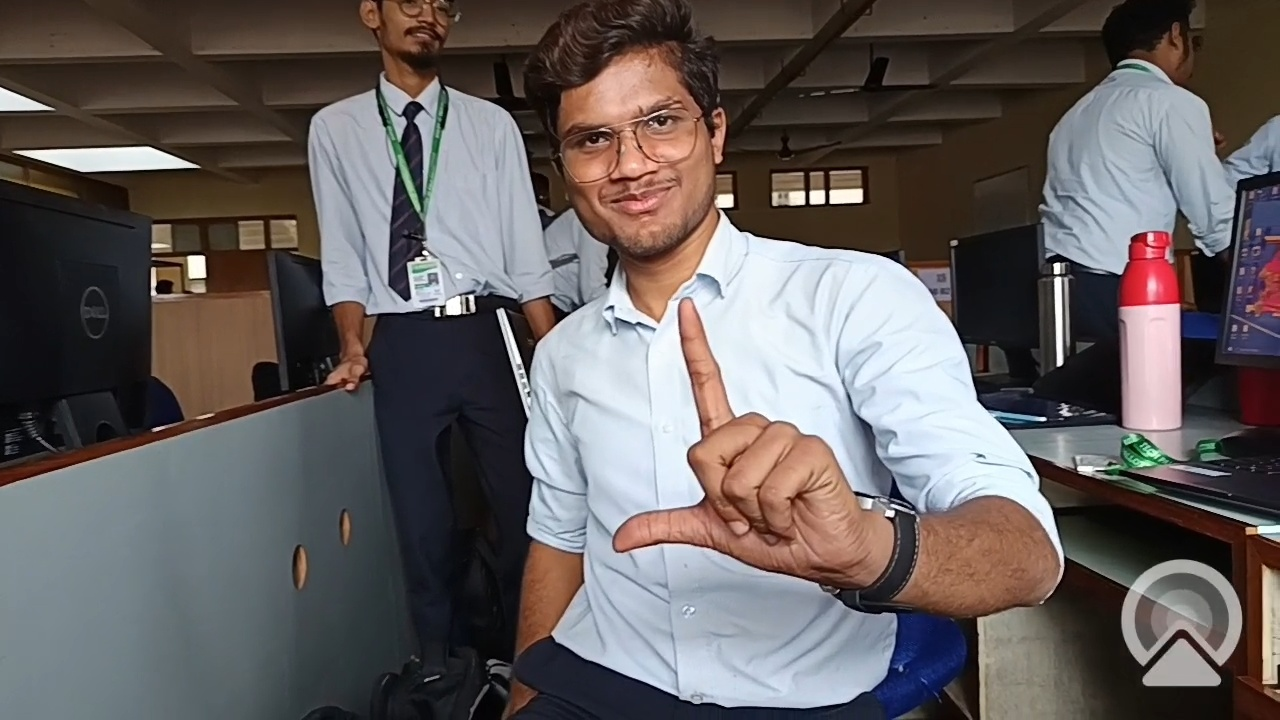L: (562, 285, 916, 675)
